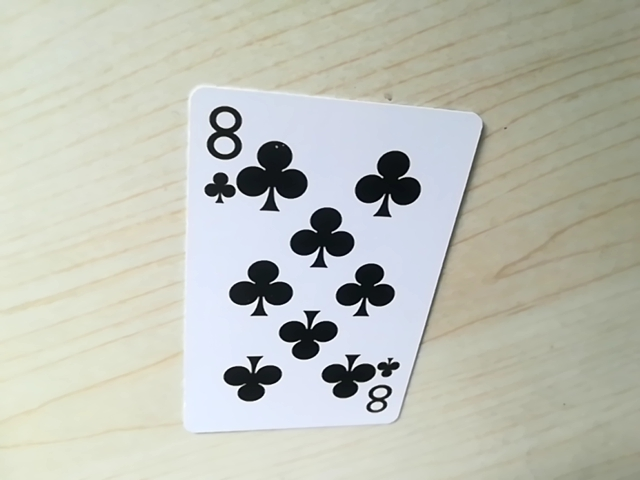mh 8: (194, 93, 241, 205), (362, 358, 404, 423)
